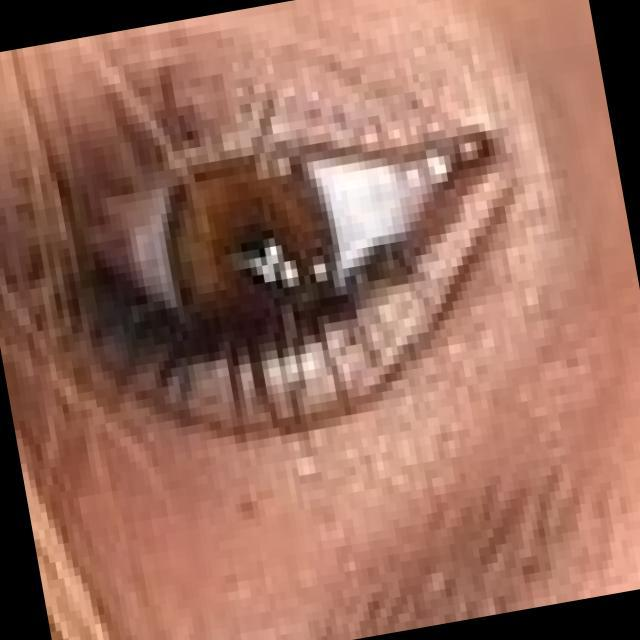Normal: (39, 96, 575, 488)
